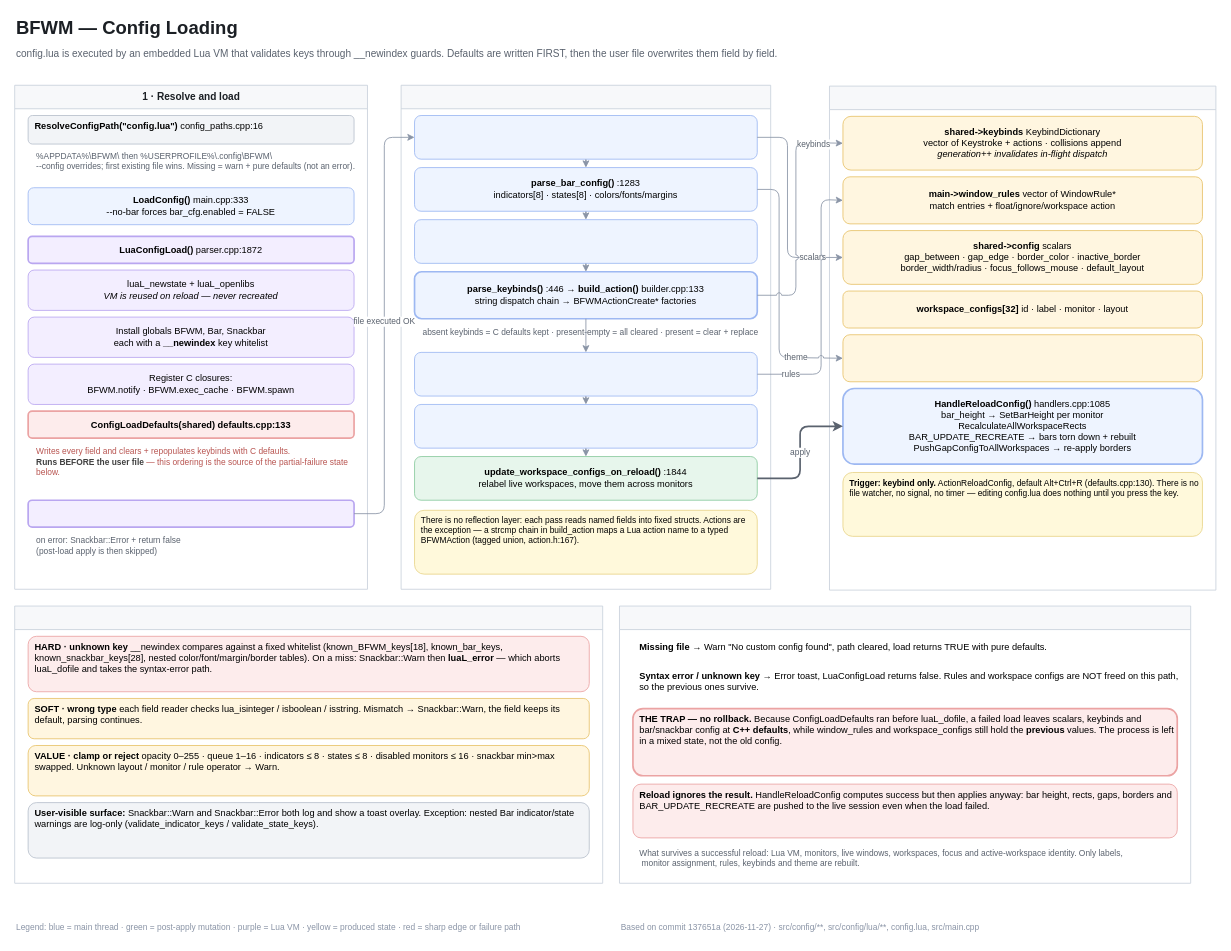
Some shapes in this 1231 by 951 pixel diagram are drawn without their labels. The box of each missing label's shape, as (x1, y1, x2, y2) in pixels:
2 · Parse passes — strict order: (400, 84, 771, 589)
3 · Runtime artifacts and 4 · Apply: (829, 85, 1216, 590)
bar_cfg indicators[8] each with states[8] snackbar_cfg theme + timing: (842, 334, 1202, 382)
Failure modes — and one real trap: (619, 605, 1191, 883)
luaL_dofile(path) parser.cpp:1971: (27, 499, 354, 528)
parse_settings() :1447 BFWM.* scalars: gaps, border, layout, disabled monitors: (414, 115, 757, 159)
parse_snackbar_config() :1653 snackbar theme, position, timing: (414, 219, 757, 263)
parse_window_rules() :257 frees the previous rule vector first: (414, 352, 757, 396)
parse_workspace_config() :356 id · label · assigned monitor · layout (32 max): (414, 404, 757, 448)
Validation — three layers: (14, 605, 603, 883)
